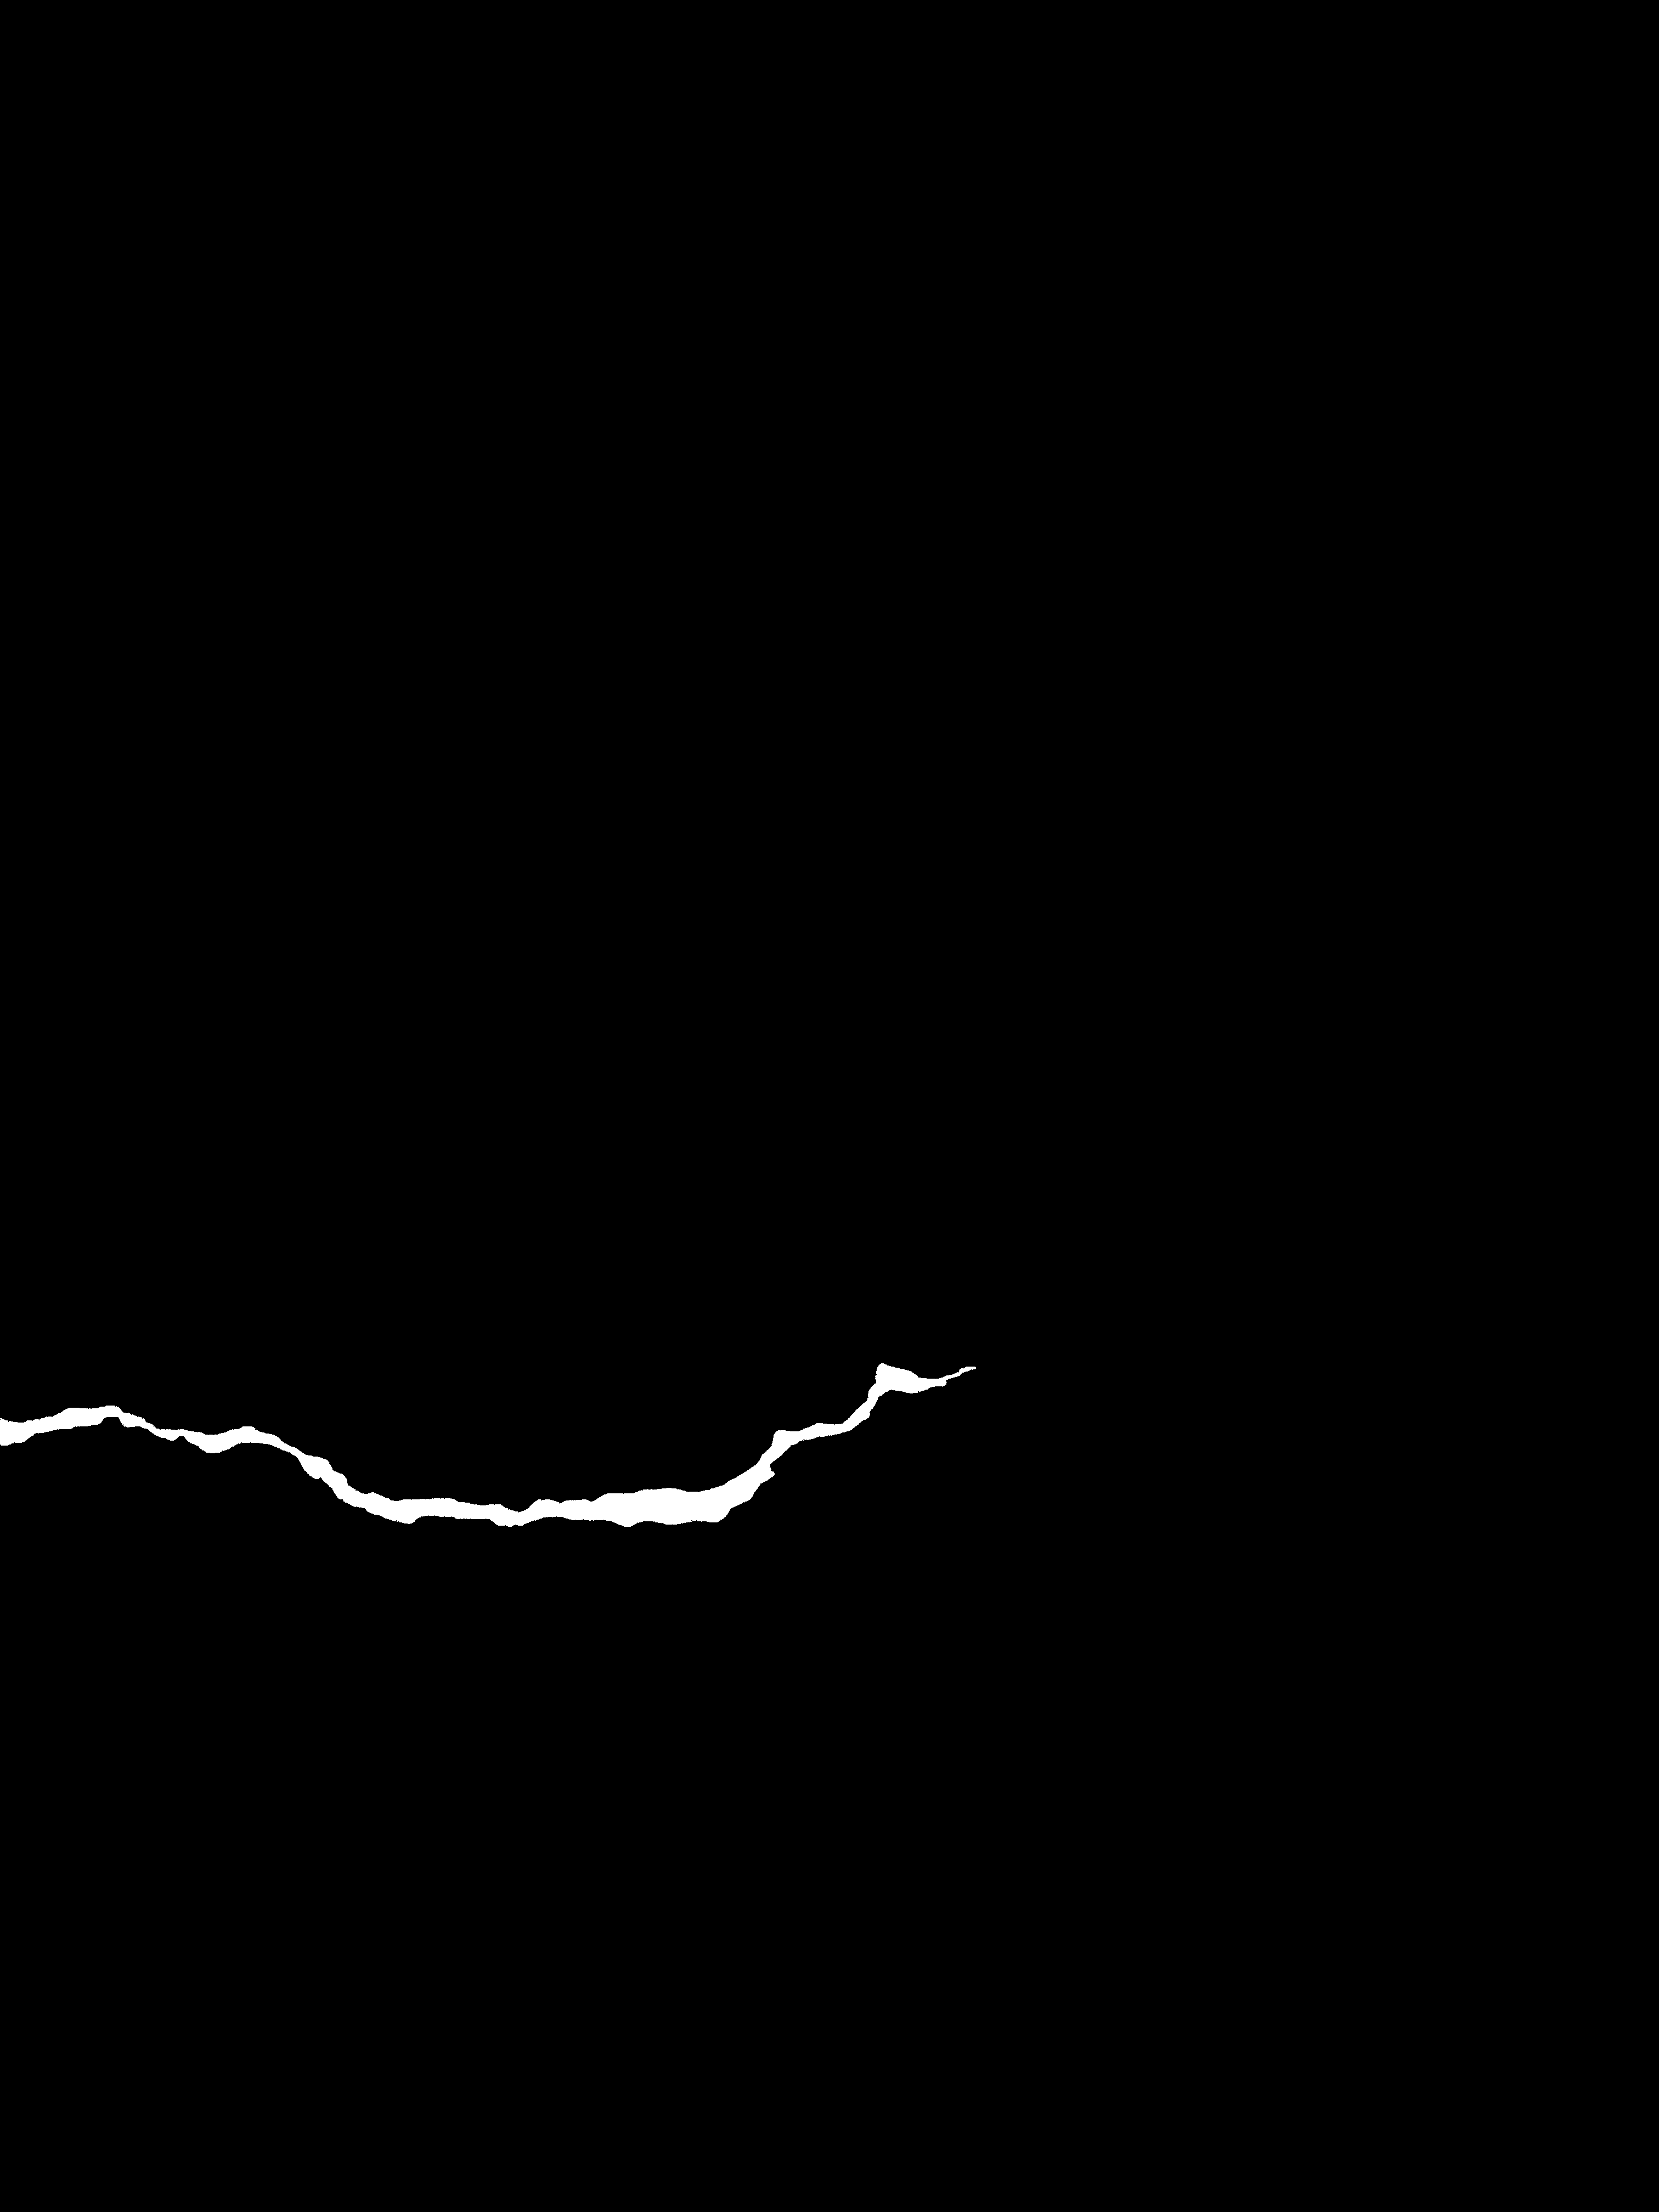Crack: (0, 1315, 1126, 1566)
